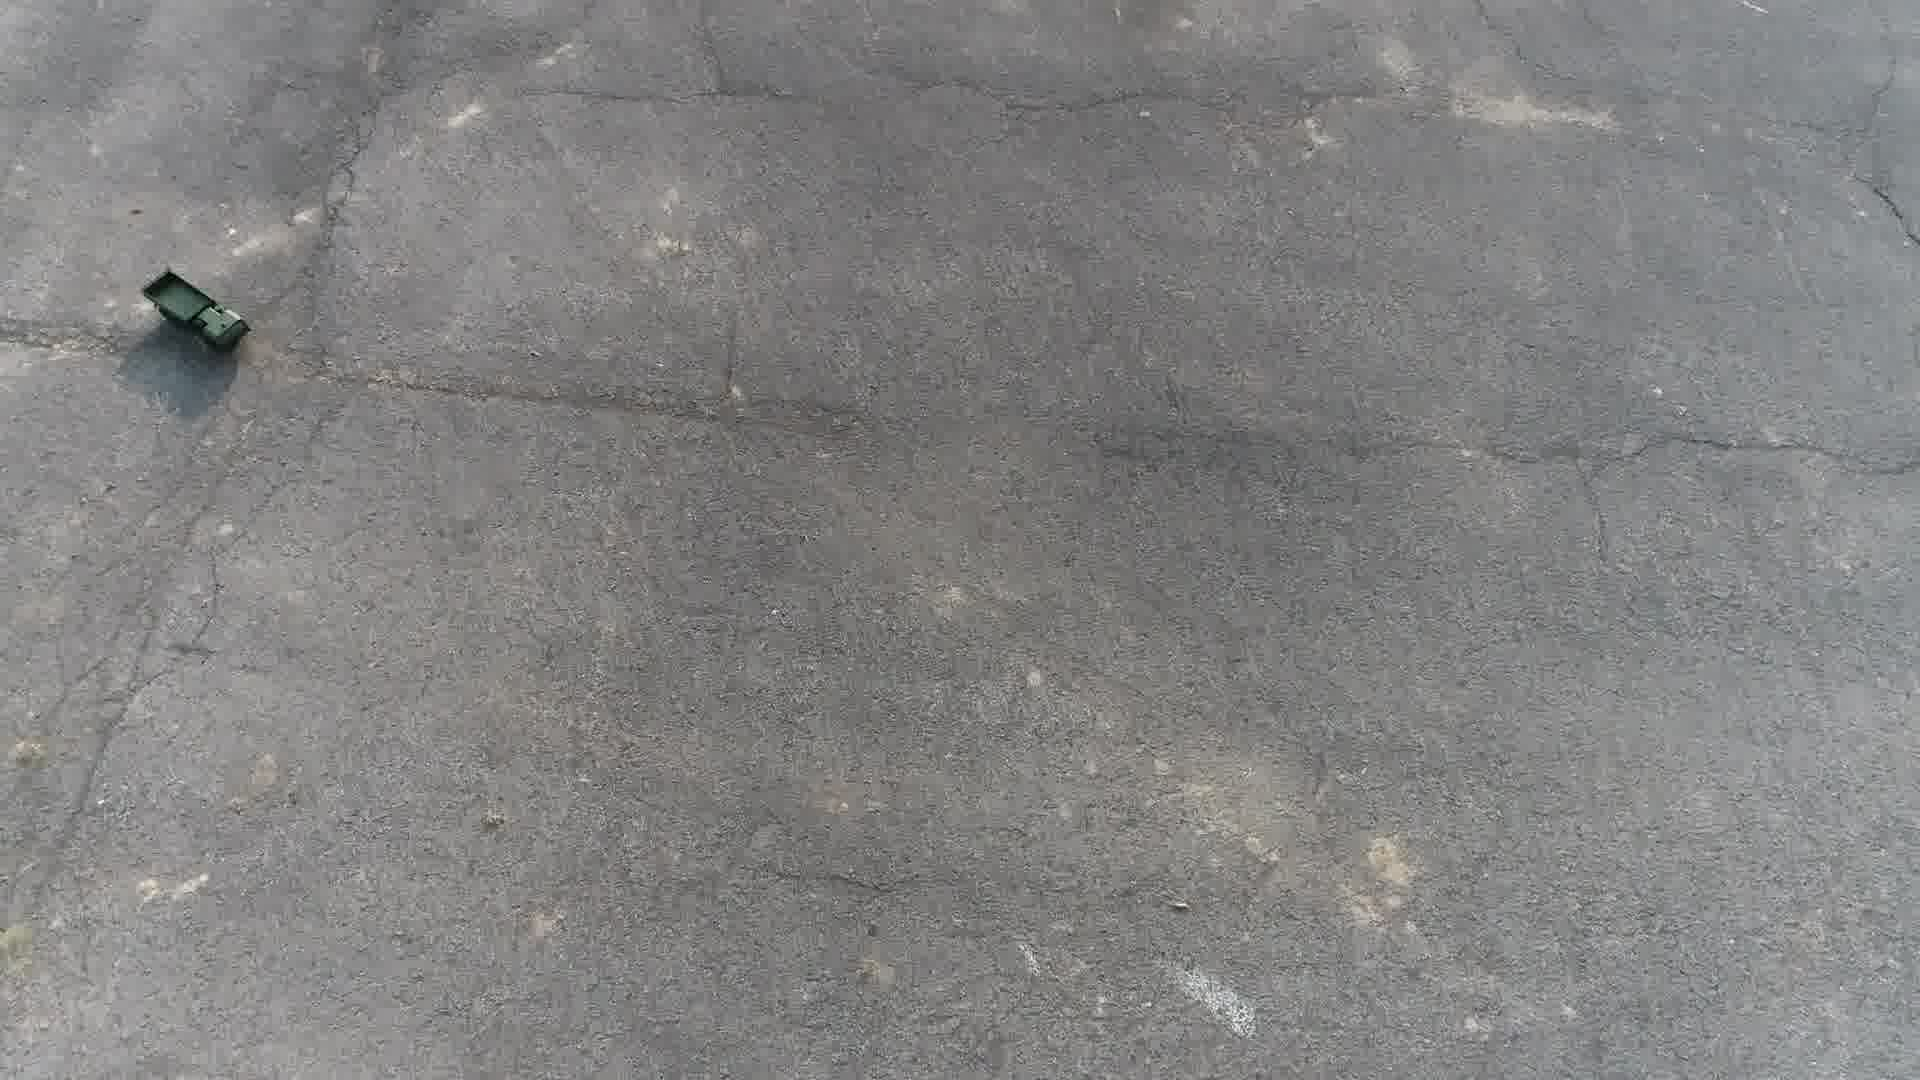transporter9: (135, 266, 258, 364)
